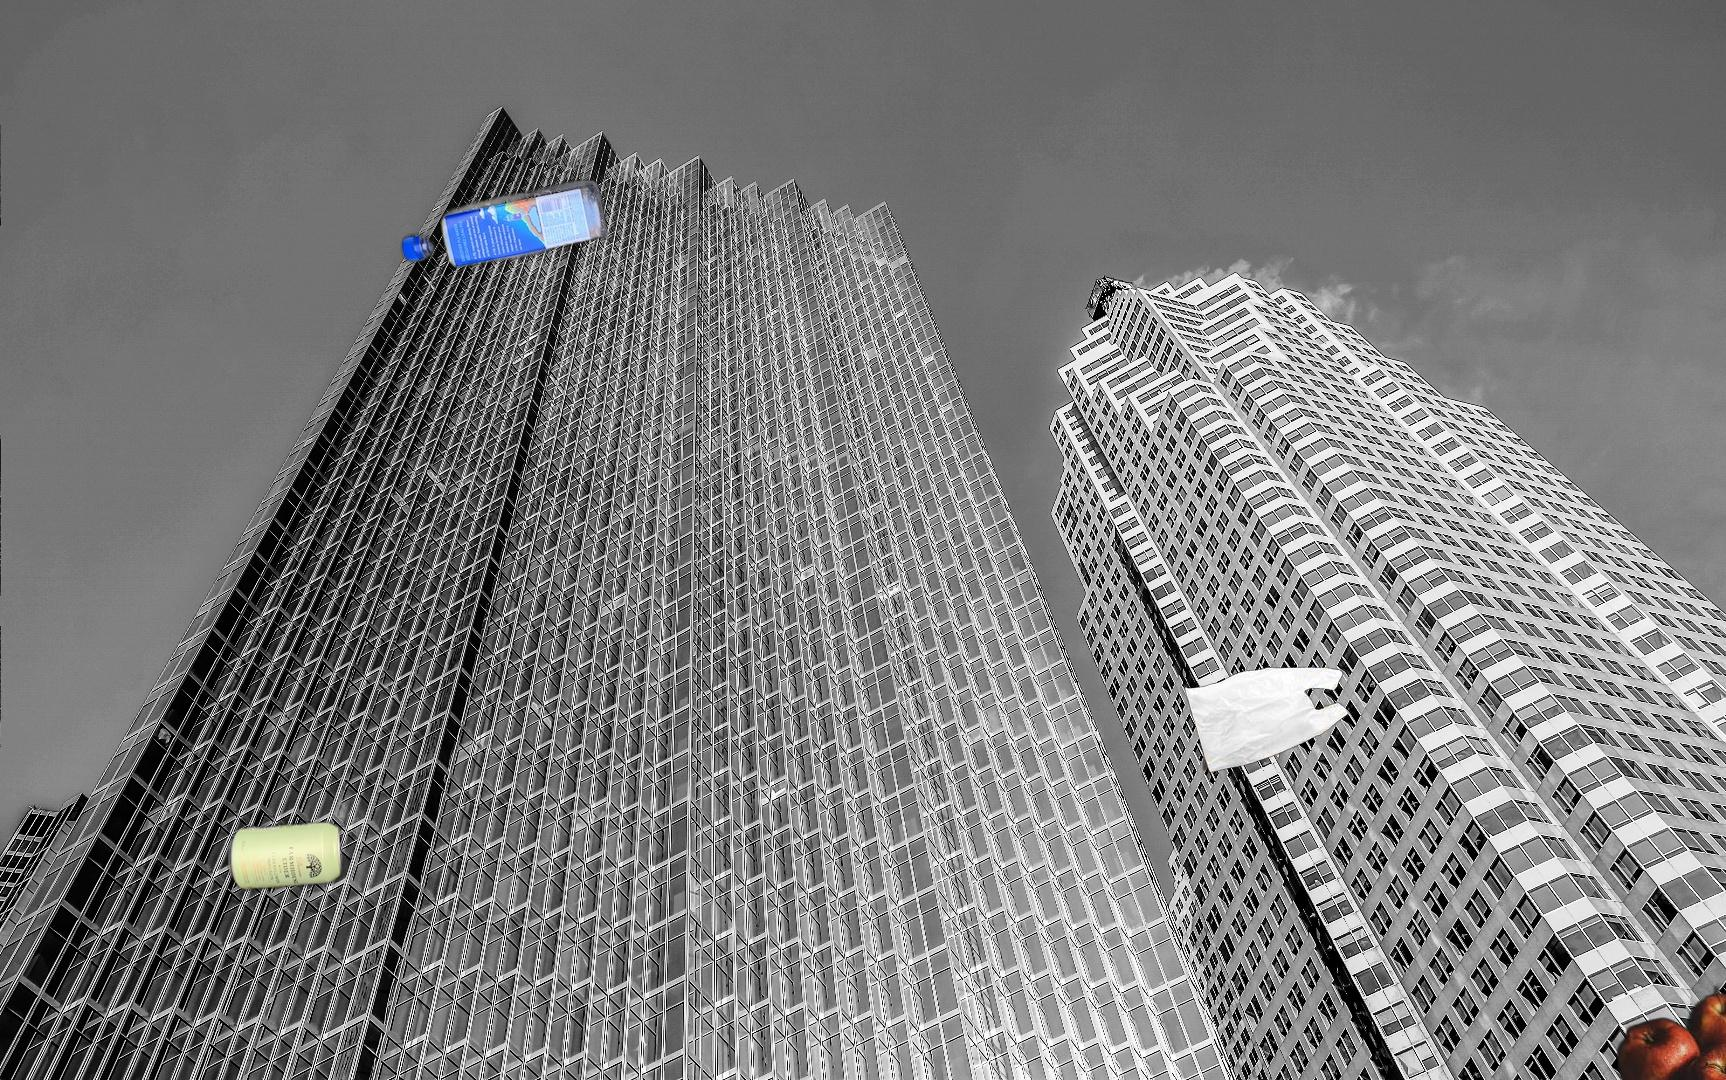biological: (1614, 978, 1726, 1080)
metal-cans: (223, 815, 350, 897)
plastic-bag: (1182, 664, 1351, 776)
plastic-bottles: (396, 173, 849, 575)
